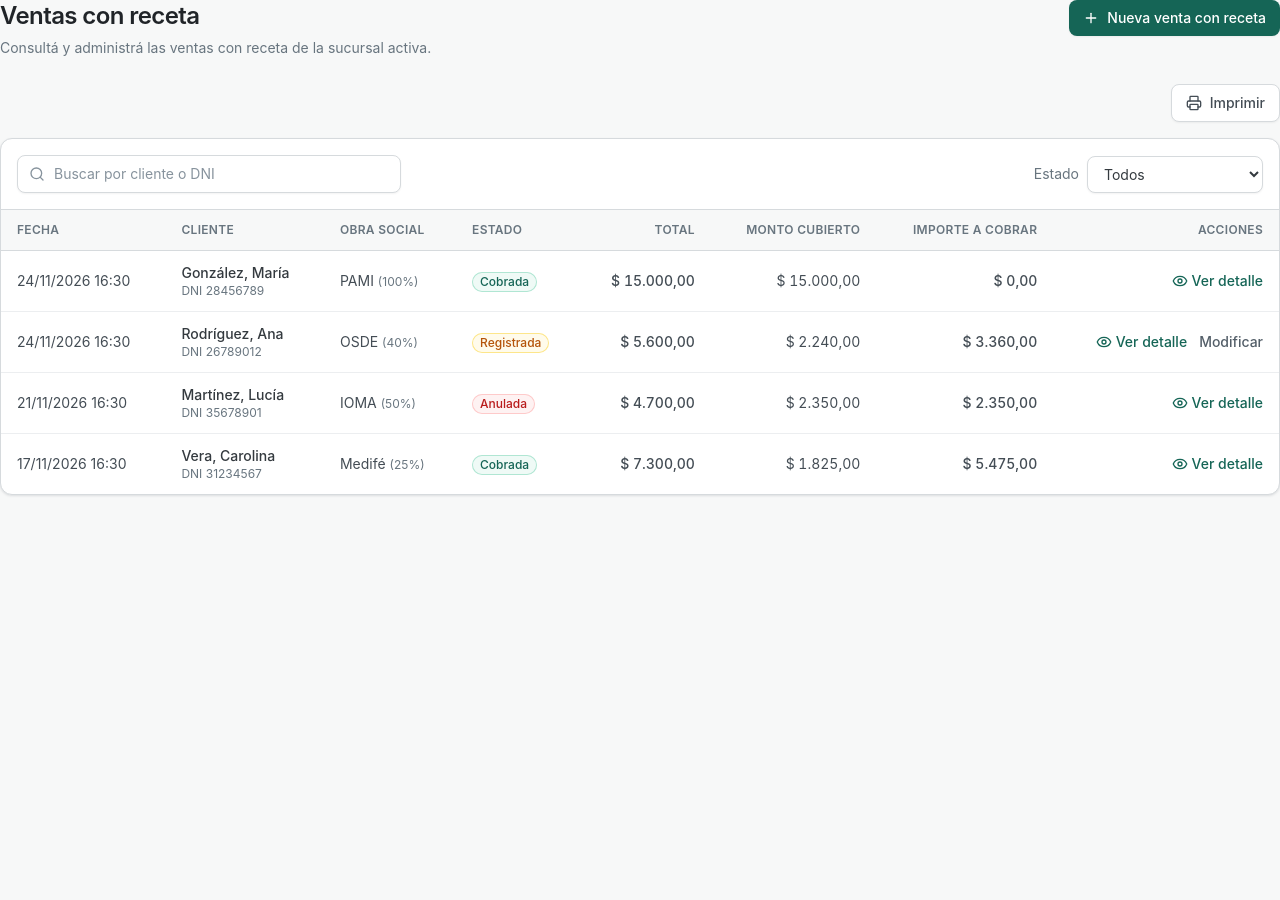
Test: Ventas con receta ofrece vista imprimible y permite cerrarla
Click the button "Imprimir" at (1225, 103), box [1171,84,1279,122]
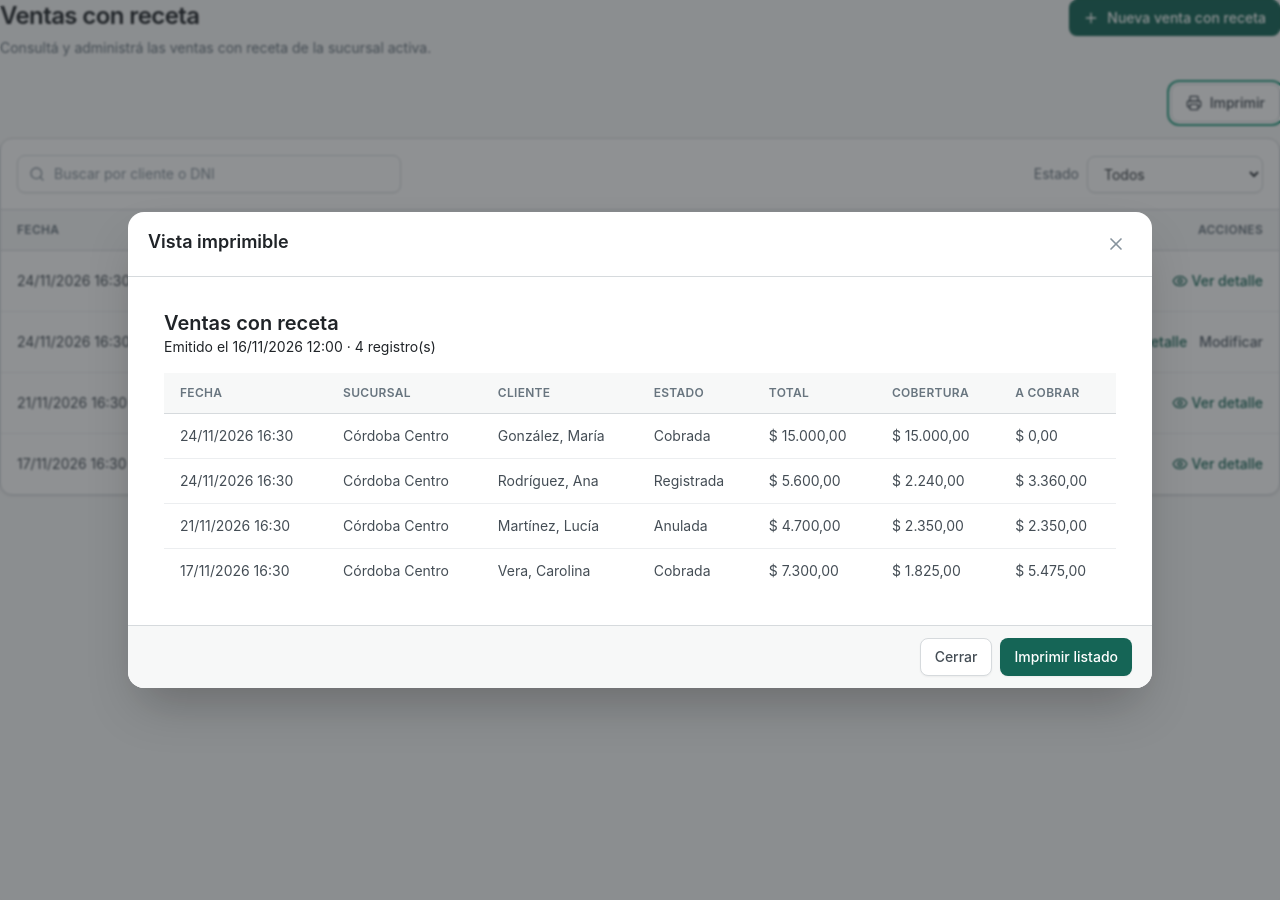
Now the table is shown, box [164,373,1116,593]
Now the text "Emitido el 16/11/2026 12:00 · 4 registro(s)" is shown, box [164,338,436,355]
Click the button "Imprimir listado" at (1066, 657), box [1000,638,1132,676]
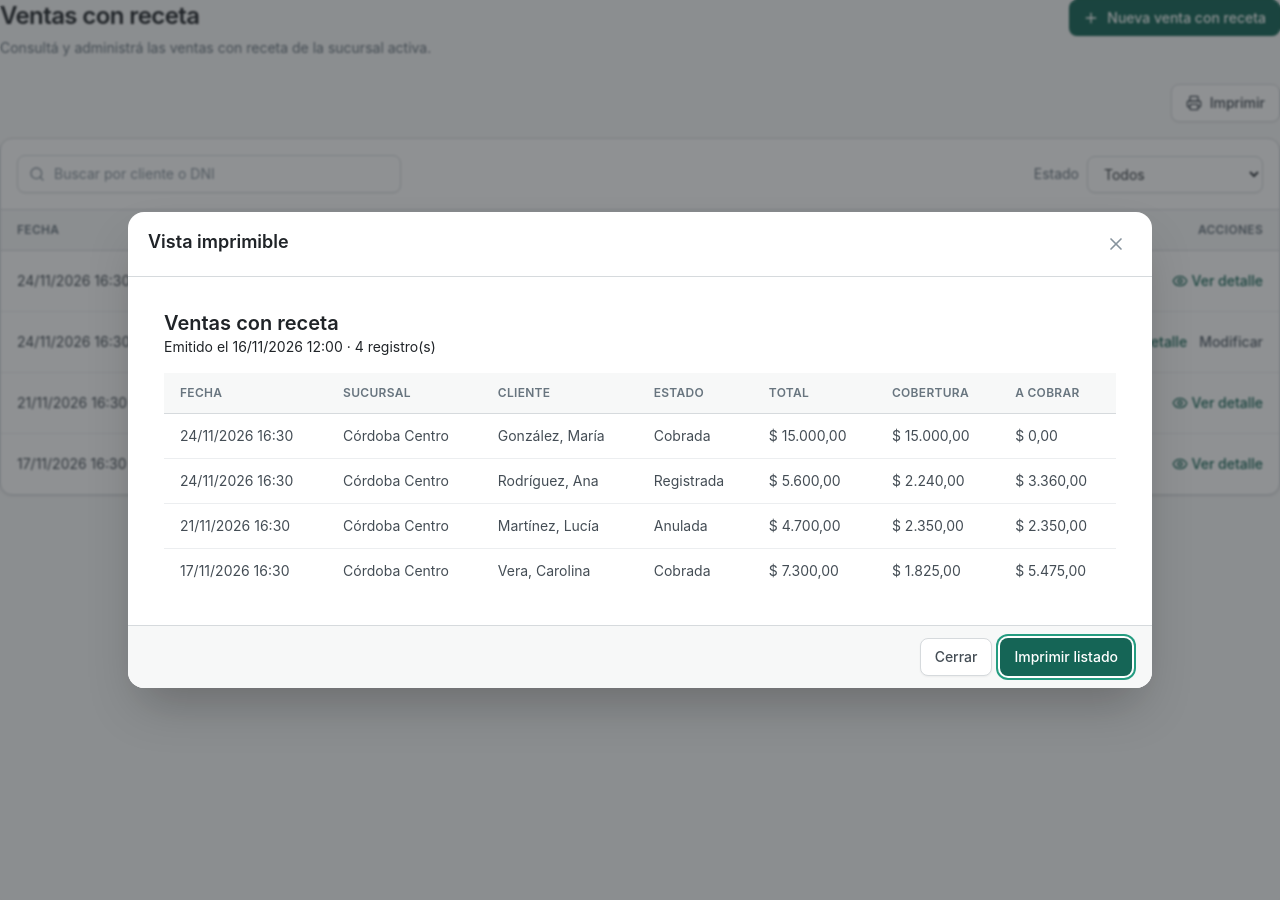
Click the button "Cerrar" at (956, 657), box [920,638,992,676]
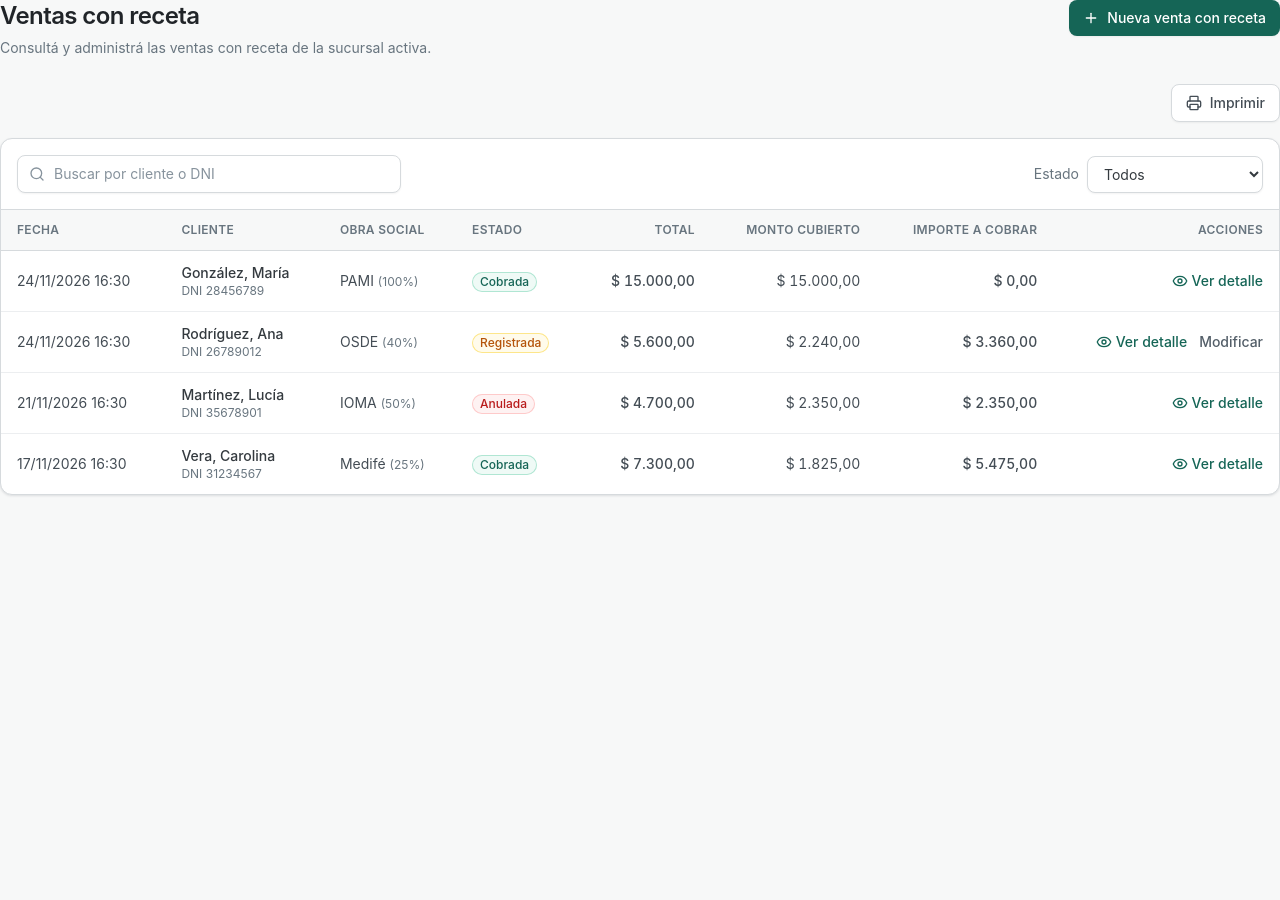
Now the dialog is gone
